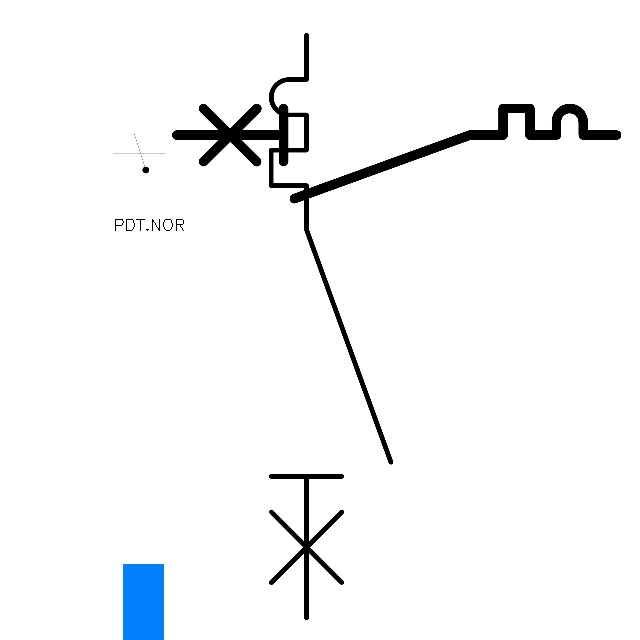interruptor_termomagnetico: (256, 20, 406, 632), (165, 97, 628, 210)
